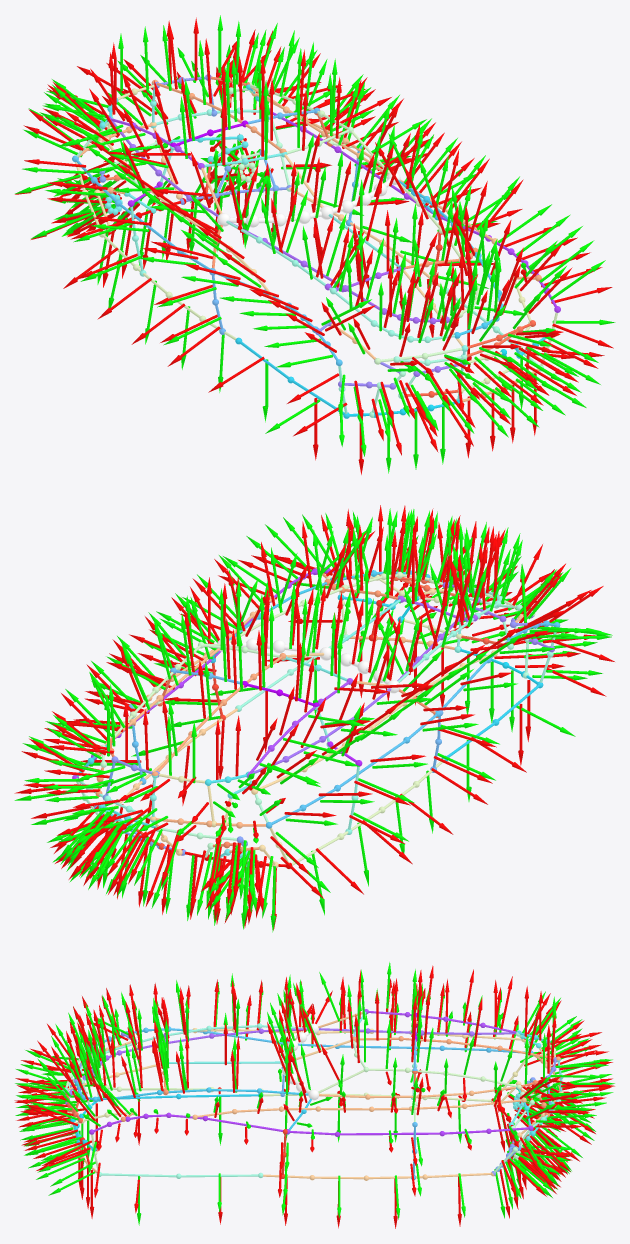
Rendered from ils_car1.gltf.
3 renders of one model, top to bottom at view 1: azimuth 30°, elevation 25°; view 2: azimuth 150°, elevation 25°; view 3: azimuth 270°, elevation 25°, orthographic. The views are drawn at different scales.
Bounding box in the file's own units: 0.5775 × 0.3968 × 1.1.
